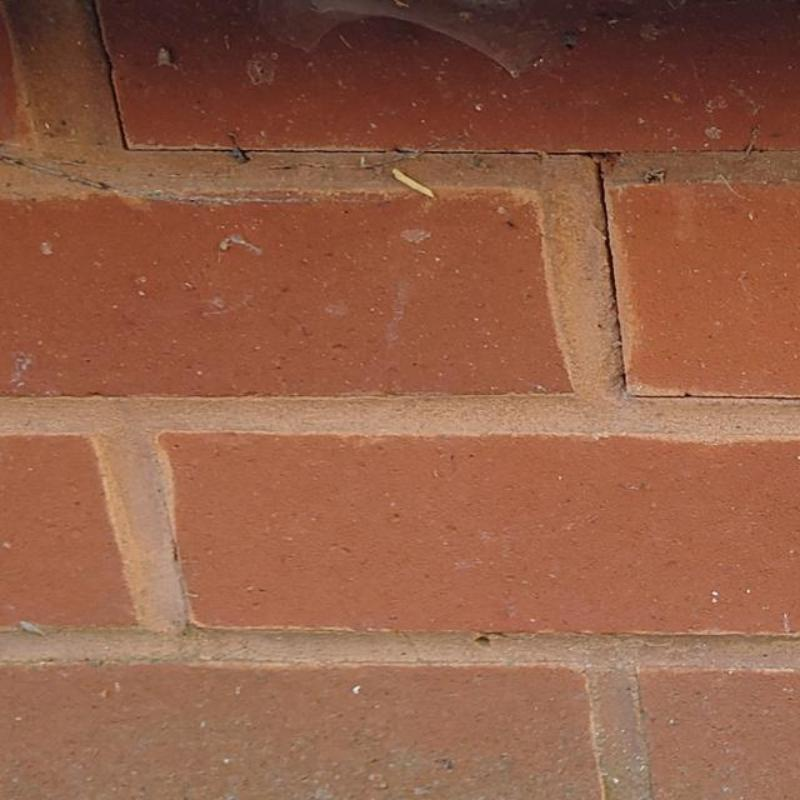pothole: (88, 0, 800, 401)
